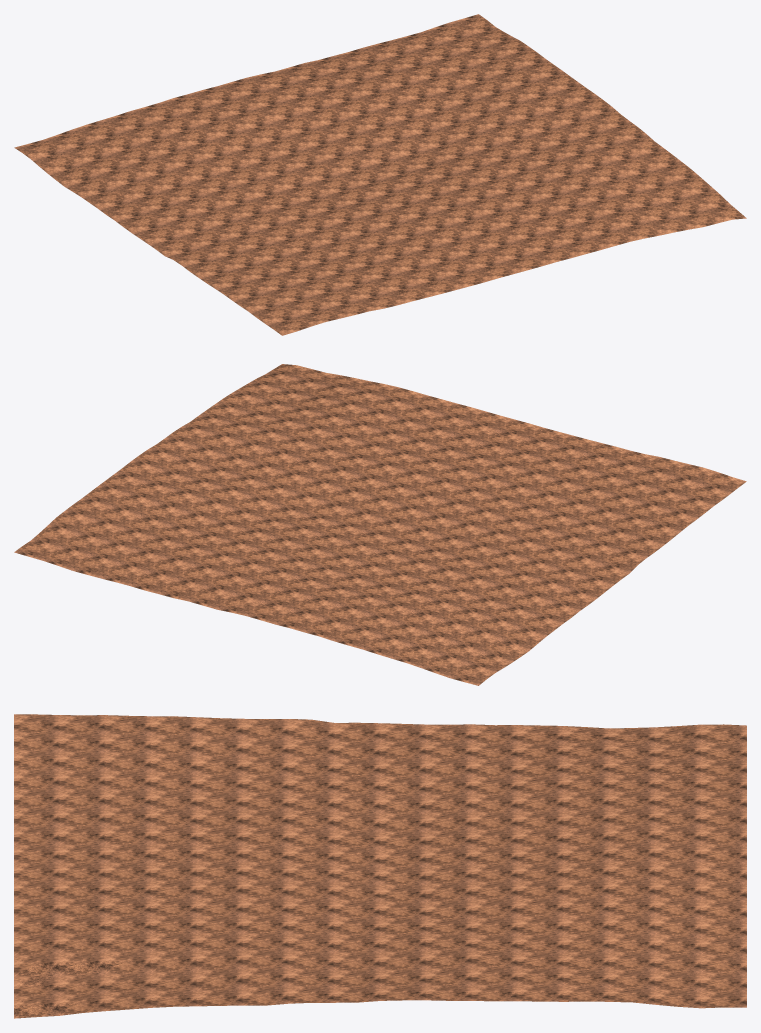
The model's file is terrain_04_21.dae.
The picture shows the model from 3 angles, top to bottom: view 1: azimuth 30°, elevation 25°; view 2: azimuth 150°, elevation 25°; view 3: azimuth 270°, elevation 25°; orthographic projection. The views are drawn at different scales.
Visible parts, largest first — view 1: terrain_04_21-node; view 2: terrain_04_21-node; view 3: terrain_04_21-node.
Boxes of the visible parts, left/top/right/bottom form: terrain_04_21-node: left=14, top=14, right=746, bottom=335; terrain_04_21-node: left=14, top=364, right=746, bottom=685; terrain_04_21-node: left=14, top=714, right=746, bottom=1018.
Size of the model in its own units: 128 by 128 by 7.3.
1 material, 1 textured.
